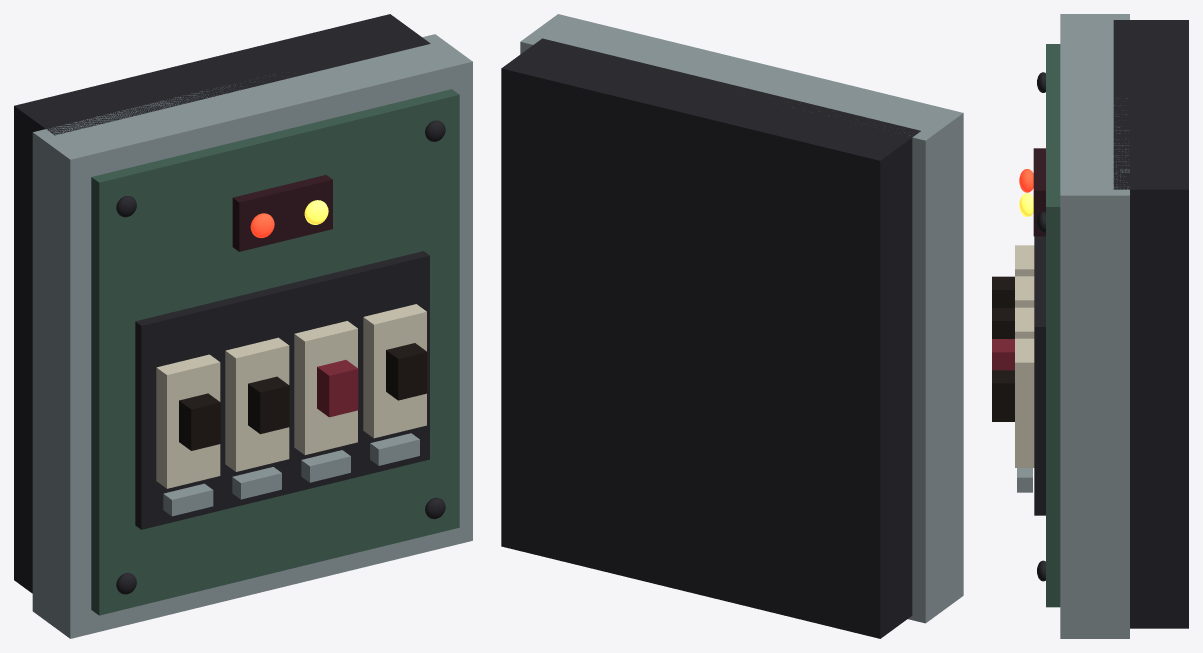
The model's file is mia-fusebox.glb.
3 views of the same model, side by side, from view 1: azimuth 30°, elevation 25°; view 2: azimuth 150°, elevation 25°; view 3: azimuth 270°, elevation 25° (orthographic). The views are drawn at different scales.
Parts seen in each view (by area): view 1: Body_sage, Body_steel, Body_iron, Body_mattress, Body_black, Body_dark, Body_velvet; view 2: Body_iron, Body_steel; view 3: Body_iron, Body_steel, Body_sage, Body_mattress, Body_black, Body_dark, Body_velvet, Body_red-bulb, Body_amber.
Part boxes in pixels (x1,y1,x2,y2): Body_sage: (91,89,459,615); Body_steel: (32,34,472,638); Body_iron: (14,14,445,594); Body_mattress: (156,304,426,488); Body_black: (179,343,427,450); Body_dark: (232,175,332,251); Body_velvet: (317,360,358,417); Body_iron: (501,38,920,638); Body_steel: (520,14,963,623); Body_iron: (1034,20,1188,628); Body_steel: (1017,14,1129,638); Body_sage: (1046,44,1060,607); Body_mattress: (1015,245,1034,467); Body_black: (992,276,1014,421); Body_dark: (1033,148,1045,236); Body_velvet: (992,339,1014,370); Body_red-bulb: (1019,169,1033,192); Body_amber: (1019,193,1033,216).
Size of the model in its own units: 0.537 by 0.611 by 0.246.
